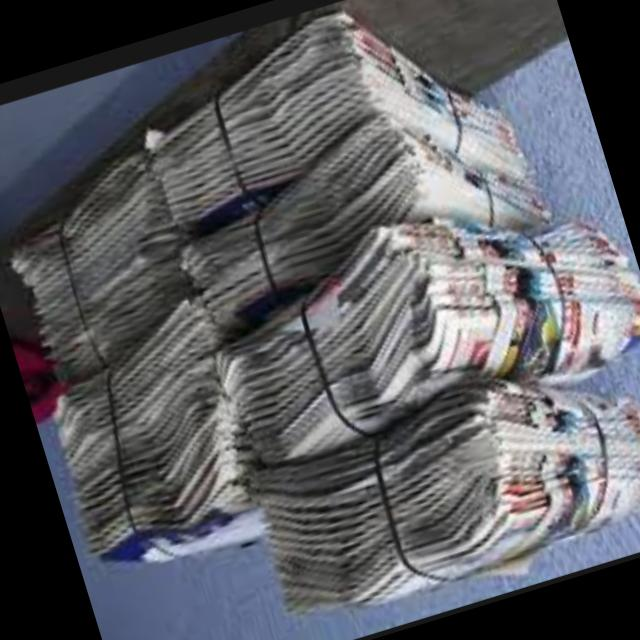Koran: (124, 0, 640, 457), (228, 330, 640, 640)
